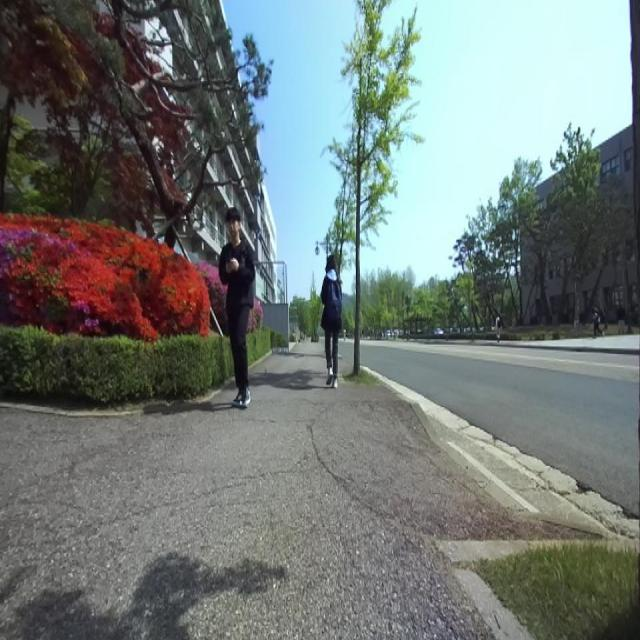sidewalk: (0, 339, 587, 639)
